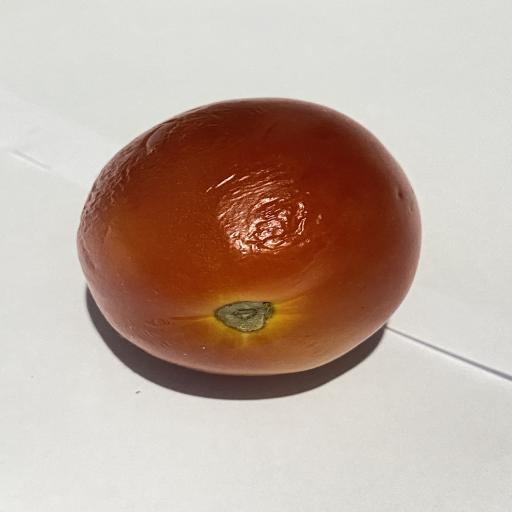spoiled: (77, 98, 421, 375)
